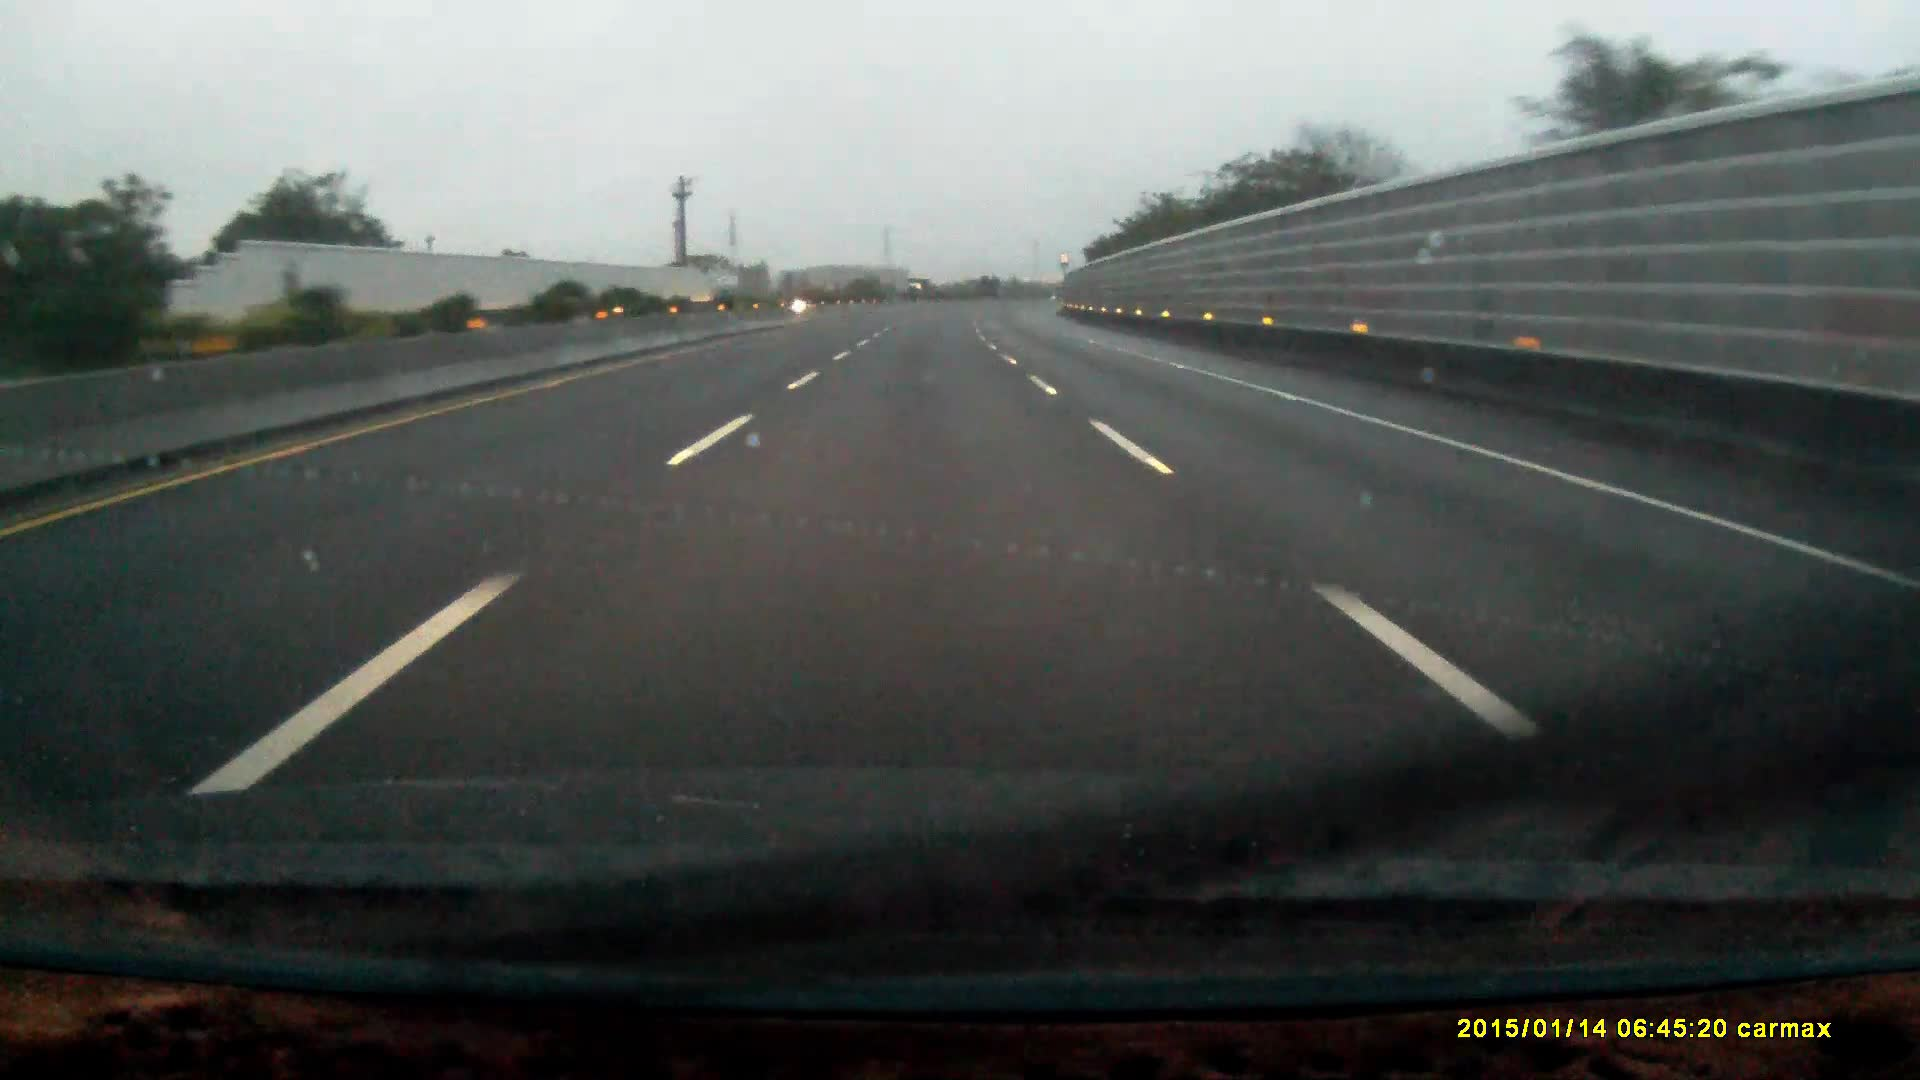vehicle: (905, 280, 930, 303)
